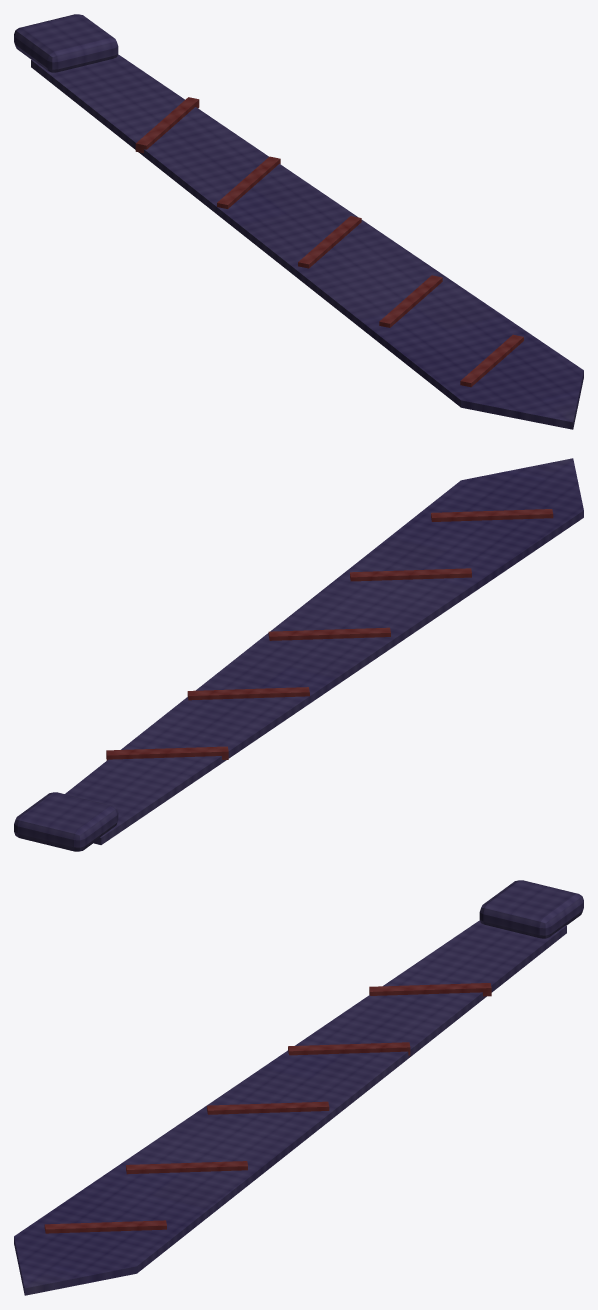
File: CL11_SchoolTie.glb
The picture shows the model from 3 angles, top to bottom: view 1: azimuth 30°, elevation 25°; view 2: azimuth 150°, elevation 25°; view 3: azimuth 330°, elevation 25°; orthographic projection.
Visible parts, largest first — view 1: CL11_SchoolTie; view 2: CL11_SchoolTie; view 3: CL11_SchoolTie.
Part boxes in pixels (box(x1,y1,x2,y2)): CL11_SchoolTie: box(14, 14, 583, 429); CL11_SchoolTie: box(14, 458, 583, 851); CL11_SchoolTie: box(14, 880, 583, 1295).
Bounding box in the file's own units: 0.0673 × 0.0135 × 0.5.
2 materials, 2 textured.
